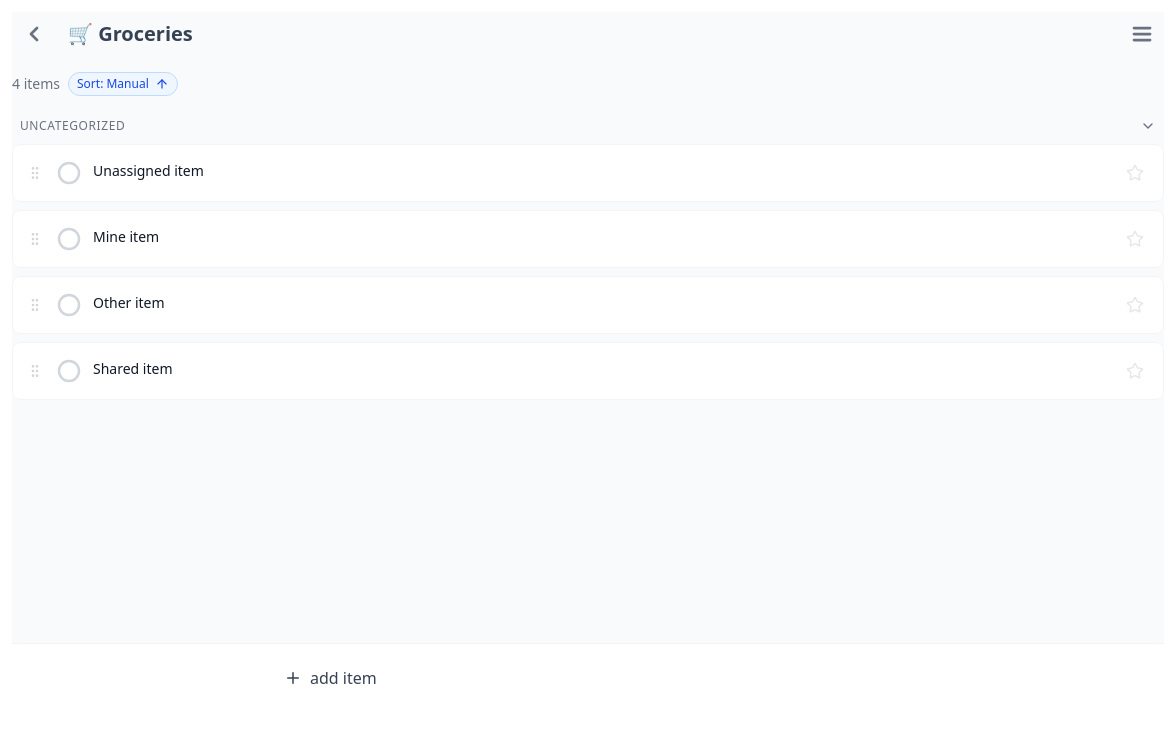
Test case: ListPage menu presentation › combines assigned-to-me and unassigned filters while excluding items assigned only to others
Click the button named "List options".
click(1142, 34)  # box x1=1120 y1=12 x2=1164 y2=56
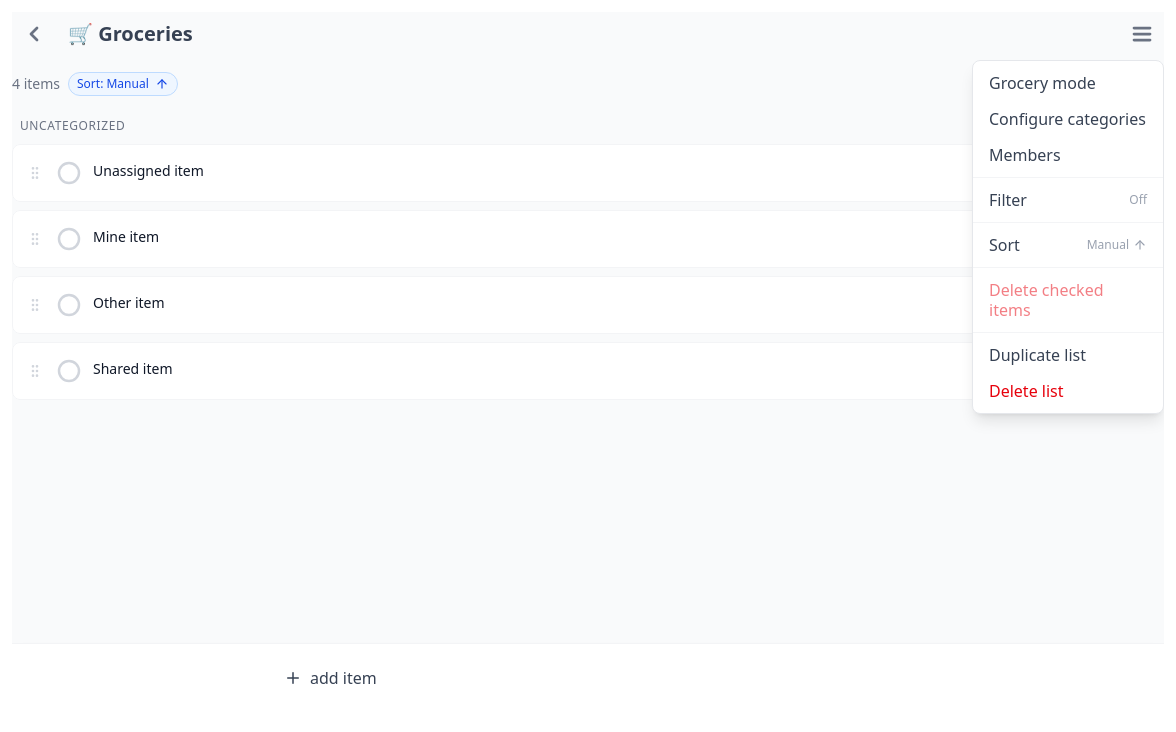
Click the button "Filter Off".
click(1068, 200)  # box x1=973 y1=182 x2=1163 y2=218
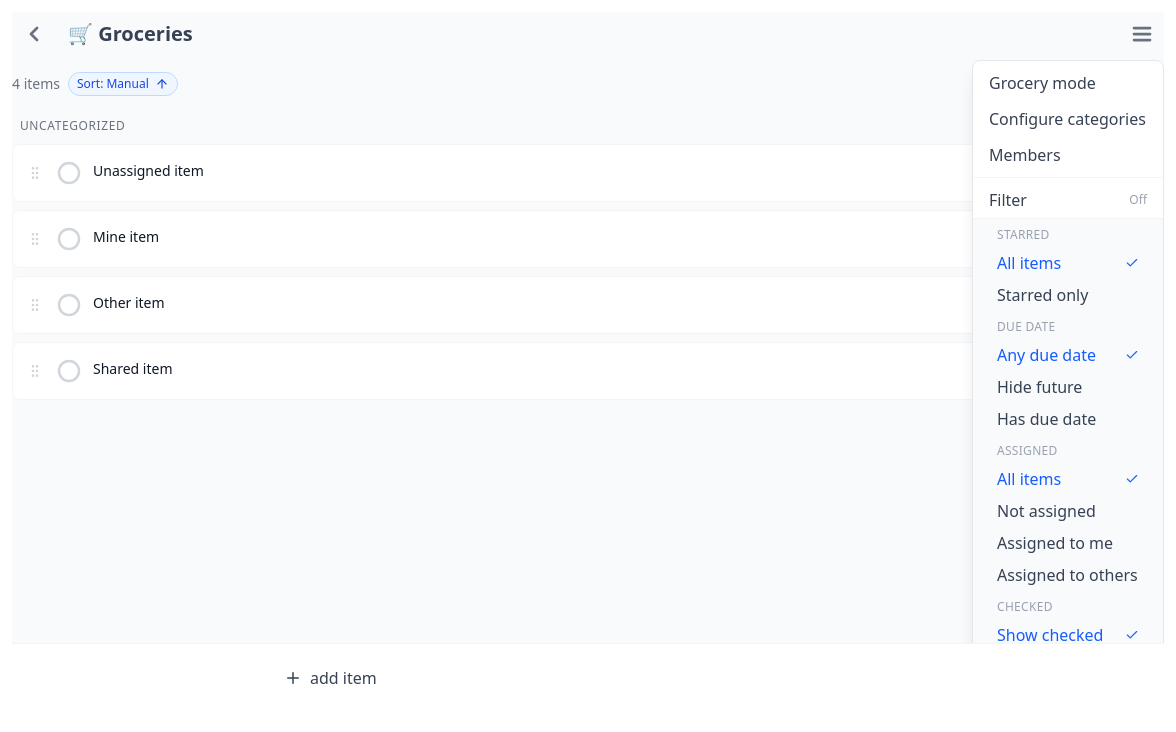
Click the button "Assigned to me".
click(1068, 543)  # box x1=973 y1=527 x2=1163 y2=559
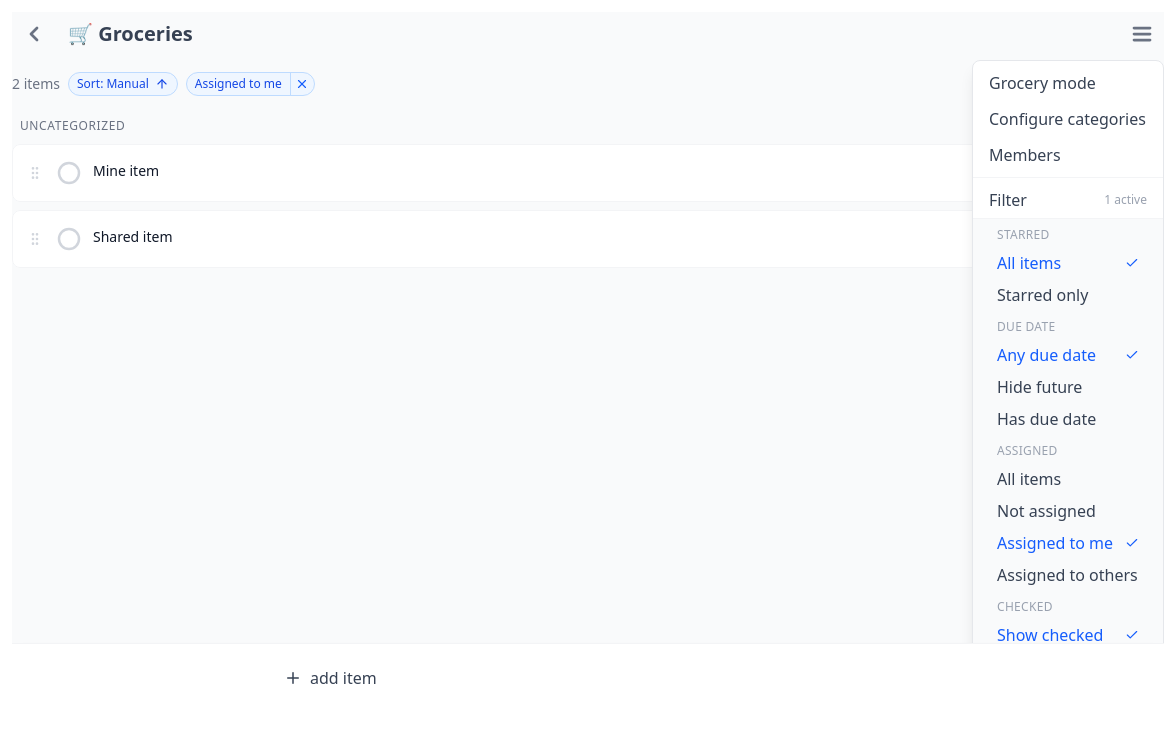
Click the button "Not assigned".
click(1068, 511)  # box x1=973 y1=495 x2=1163 y2=527
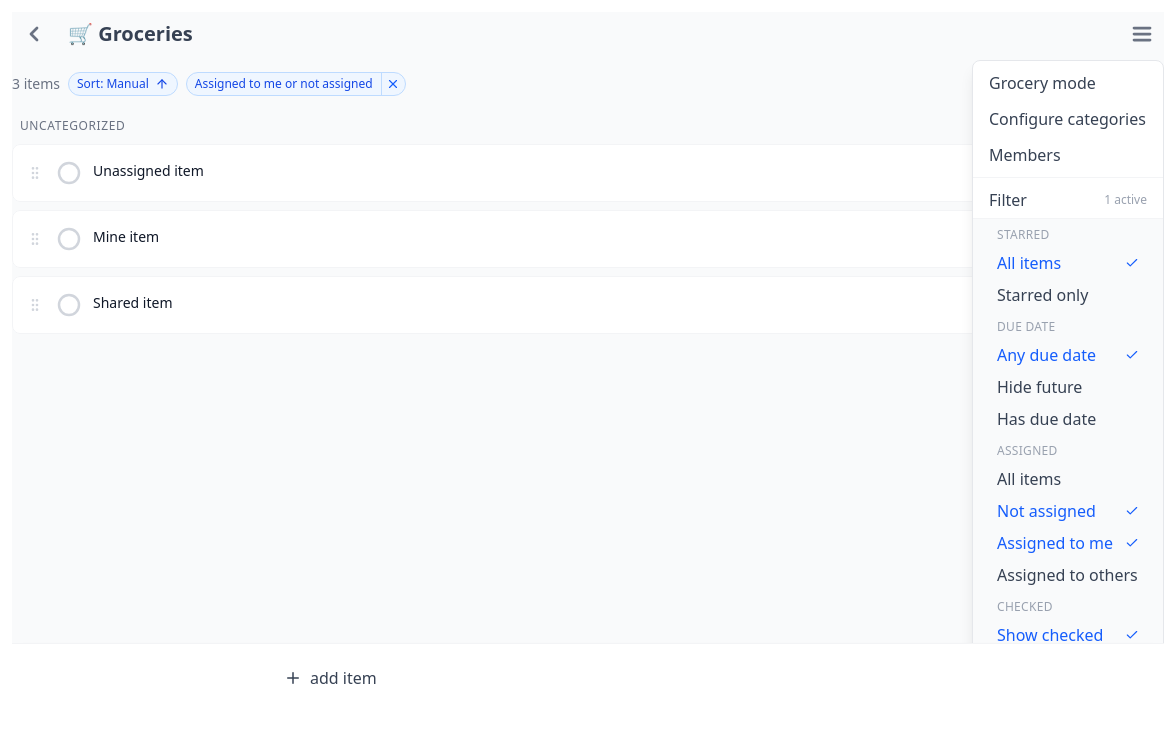
Expected: the button "Filter 1 active" is shown, x1=973 y1=182 x2=1163 y2=218
Expected: the text "Unassigned item" is shown, x1=93 y1=161 x2=204 y2=181
Expected: the button named "Clear Assigned to me or not assigned filter" is shown, x1=381 y1=73 x2=405 y2=95
